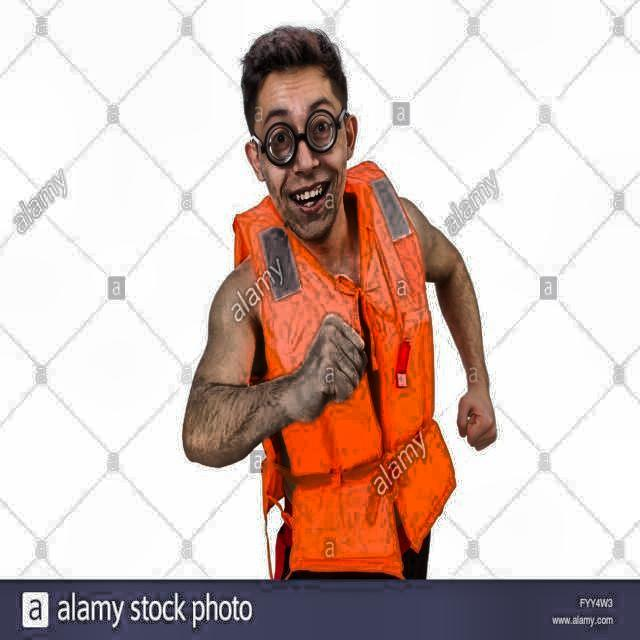safety_jacket: (201, 164, 461, 495)
